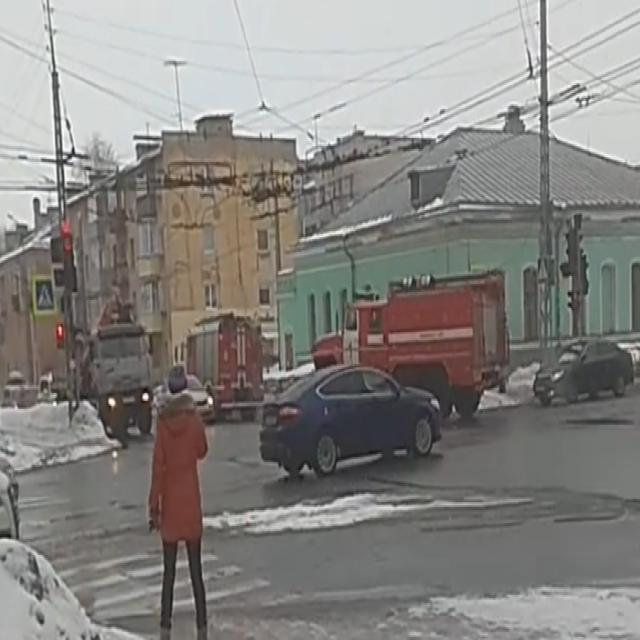fire fighting vehicle: (310, 265, 512, 422), (182, 312, 269, 429)
non emergency car: (258, 358, 448, 485), (52, 289, 159, 442), (532, 329, 637, 417)
